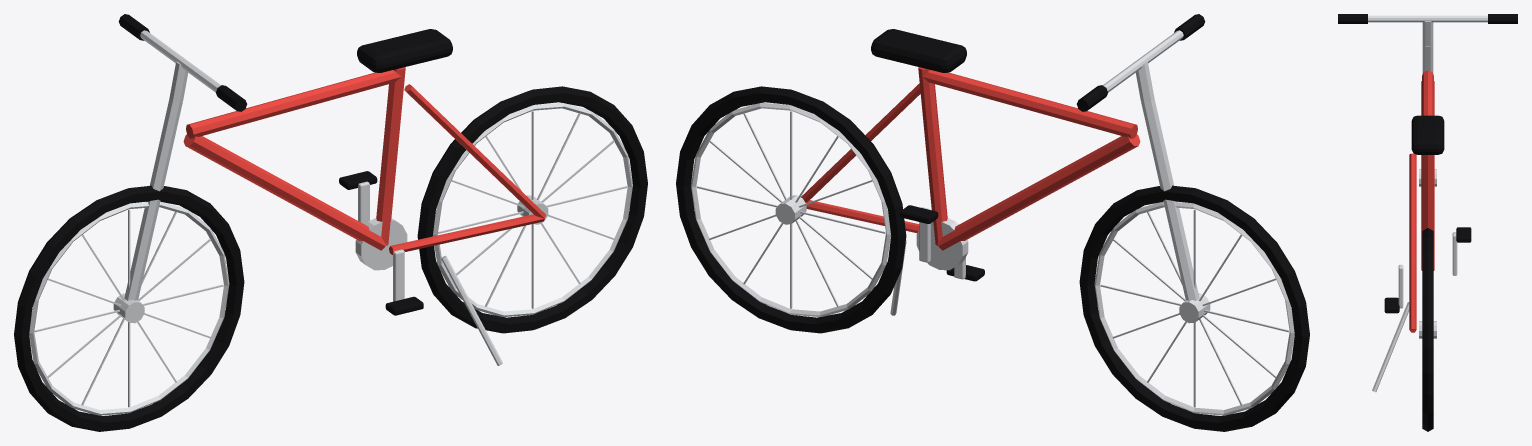
The model's file is SW_Bicycle.glb.
3 views of the same model, side by side, from view 1: azimuth 30°, elevation 25°; view 2: azimuth 150°, elevation 25°; view 3: azimuth 270°, elevation 25° (orthographic). The views are drawn at different scales.
Visible parts, largest first — view 1: Bicycle; view 2: Bicycle; view 3: Bicycle.
Part boxes in pixels (x1=…): Bicycle: x1=14, y1=14, x2=647, y2=431; Bicycle: x1=676, y1=14, x2=1309, y2=431; Bicycle: x1=1338, y1=14, x2=1517, y2=431.
Size of the model in its own units: 1.88 by 1.02 by 0.6.
2 materials, 1 textured.
